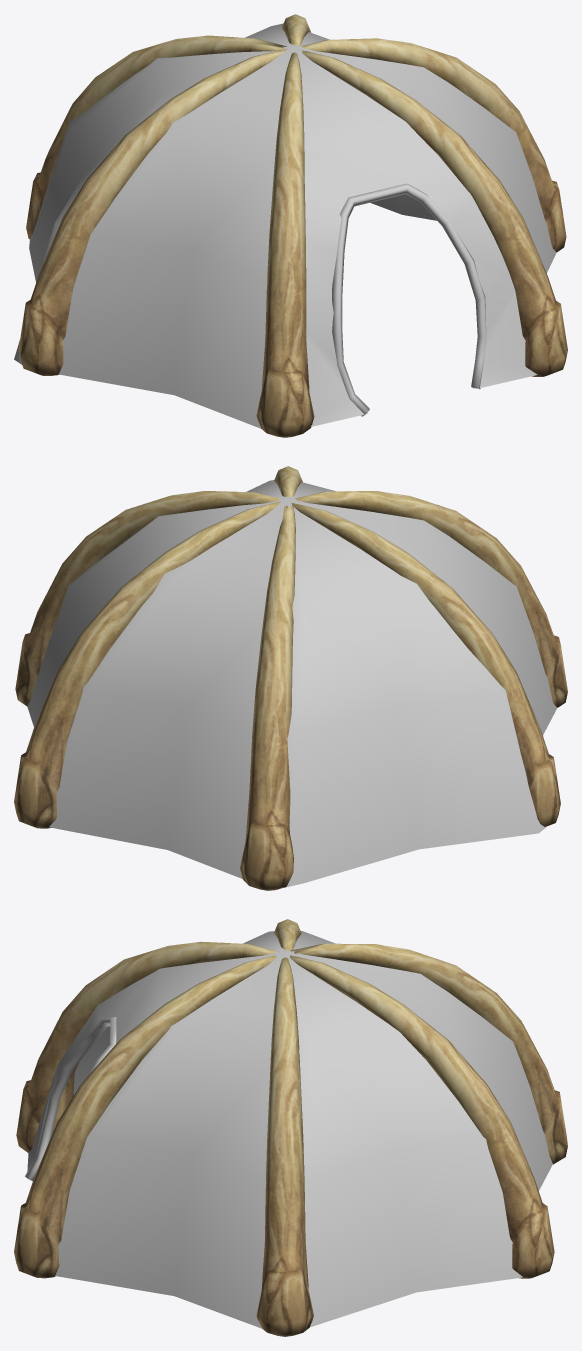
File: round tent.FBX
The picture shows the model from 3 angles, top to bottom: view 1: azimuth 30°, elevation 25°; view 2: azimuth 150°, elevation 25°; view 3: azimuth 270°, elevation 25°; orthographic projection.
Parts seen in each view (by area): view 1: round tent; view 2: round tent; view 3: round tent.
Boxes of the visible parts, left/top/right/bottom form: round tent: left=14, top=14, right=567, bottom=437; round tent: left=14, top=466, right=567, bottom=890; round tent: left=14, top=919, right=567, bottom=1336.
Size of the model in its own units: 6.49 by 3.07 by 5.82.
